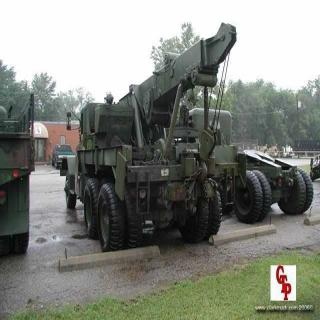Towing_truck: (61, 21, 313, 252)
